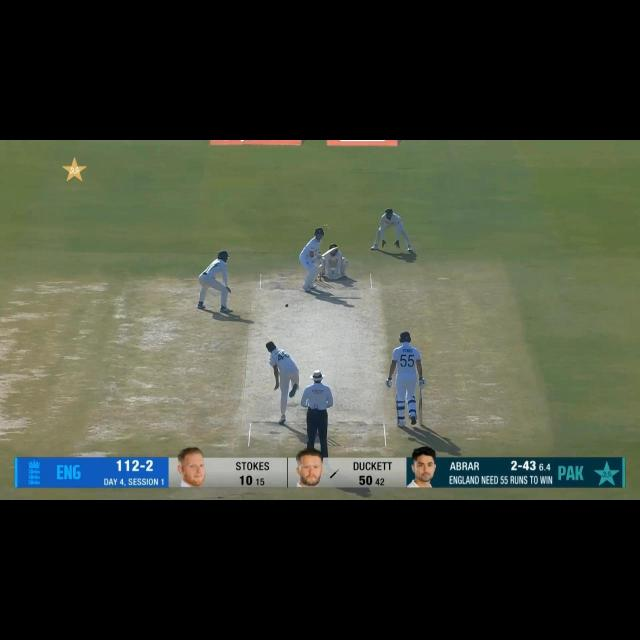bat: (322, 244, 342, 257), (416, 397, 424, 427)
toe: (416, 414, 424, 426), (332, 245, 340, 251)
